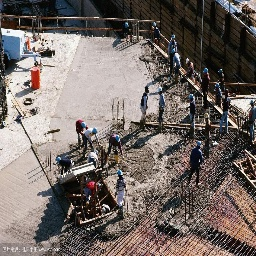person: (115, 170, 129, 218), (188, 140, 203, 184), (186, 93, 198, 135), (157, 84, 167, 132), (140, 84, 150, 130)
